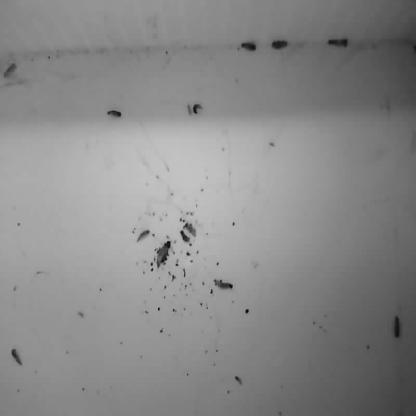PtecticusTenebrifer: (157, 243, 169, 267), (327, 37, 349, 50), (11, 347, 24, 368), (214, 276, 233, 290), (4, 62, 18, 80), (240, 40, 257, 54), (136, 228, 150, 243), (394, 315, 401, 341), (270, 40, 288, 50), (107, 109, 124, 119), (192, 102, 204, 116)
